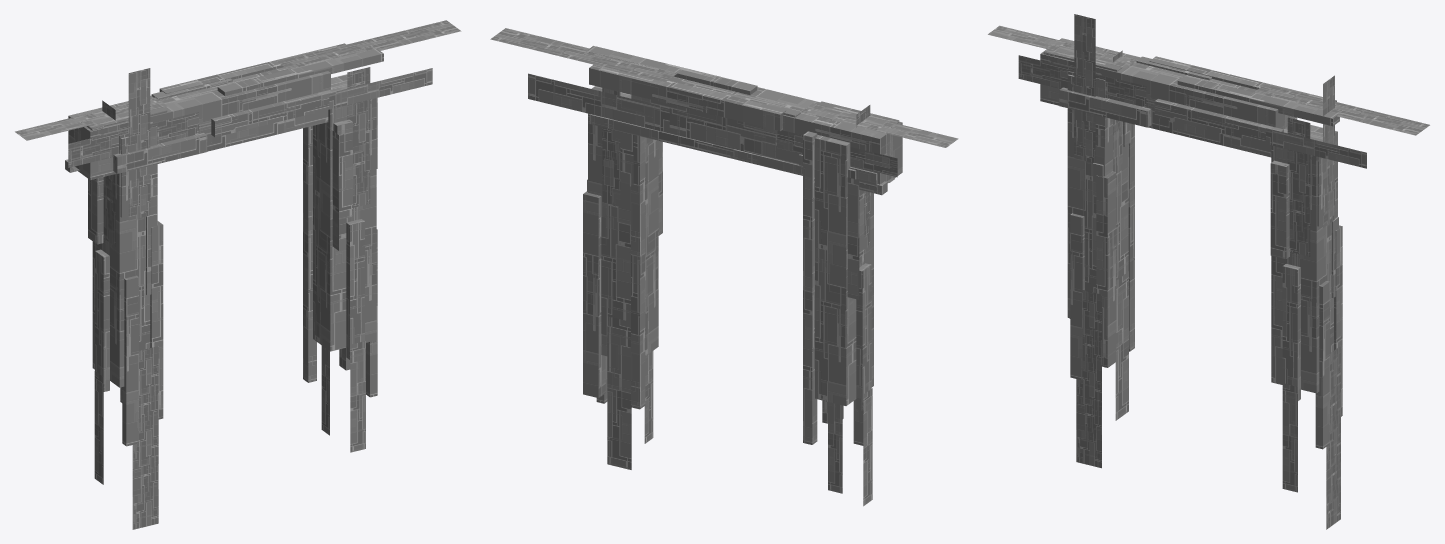
File: SM_architecture_module_11.glb
3 views of the same model, side by side, from view 1: azimuth 30°, elevation 25°; view 2: azimuth 150°, elevation 25°; view 3: azimuth 330°, elevation 25° (orthographic). The views are drawn at different scales.
Visible parts, largest first — view 1: SM_architecture_module_11; view 2: SM_architecture_module_11; view 3: SM_architecture_module_11.
Part boxes in pixels (x1,y1,x2,y2): SM_architecture_module_11: [15, 20, 461, 529]; SM_architecture_module_11: [490, 28, 958, 506]; SM_architecture_module_11: [988, 14, 1429, 529].
Bounding box in the file's own units: 17.81 × 18.35 × 2.62.
Materials: 2 (2 with a texture image).
